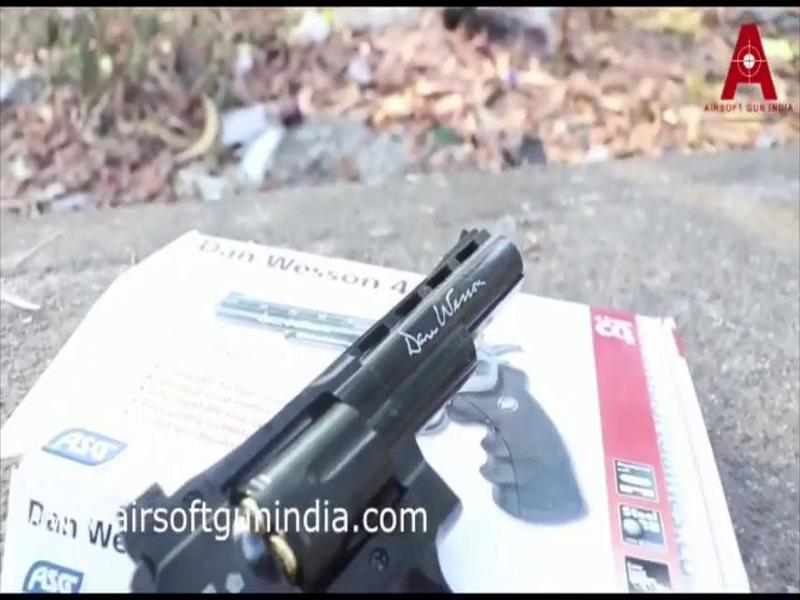Revolver: (58, 207, 567, 596)
